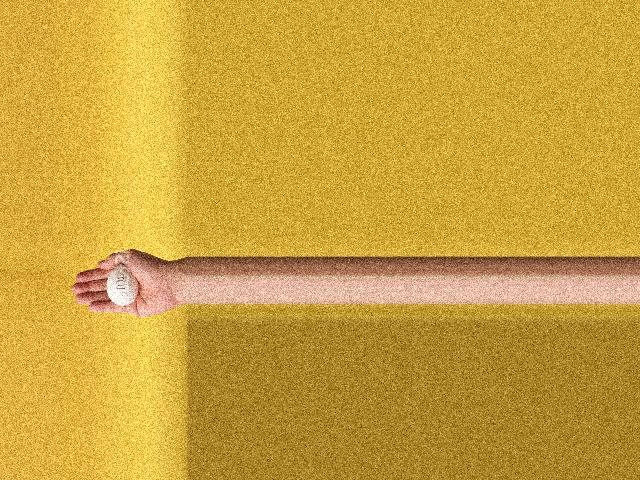egg: (106, 265, 137, 306)
